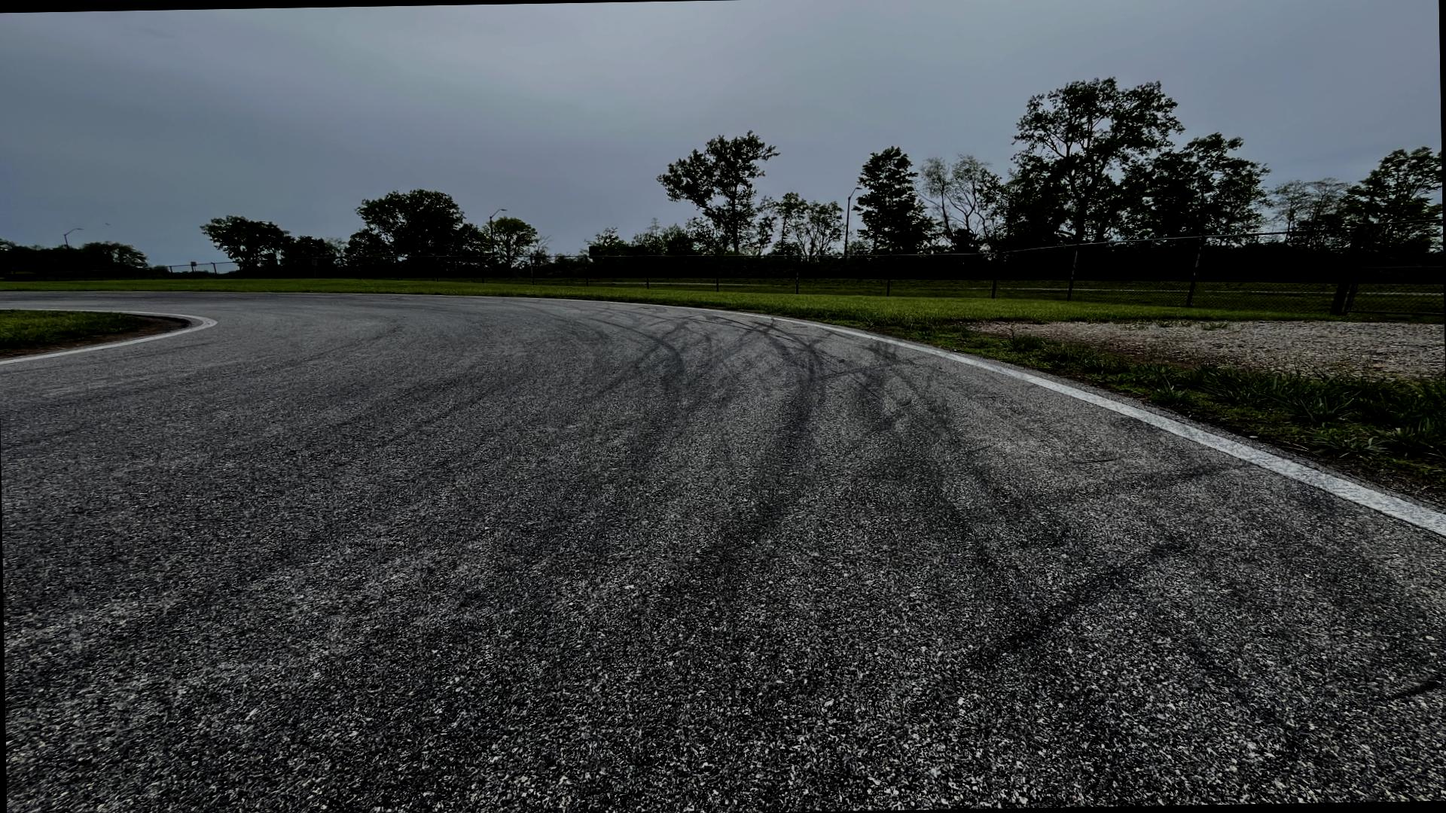white-line: (0, 290, 1445, 538), (0, 307, 217, 365)
